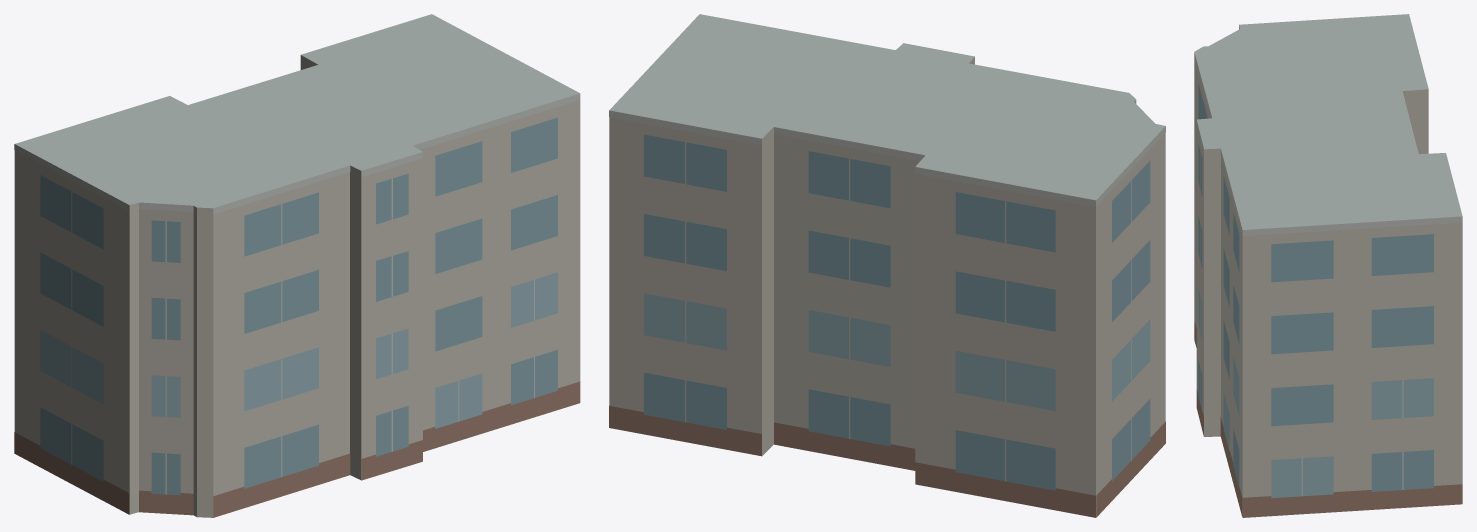
The model's file is survey-upis-32983789.glb.
The picture shows the model from 3 angles, left to right: view 1: azimuth 30°, elevation 25°; view 2: azimuth 150°, elevation 25°; view 3: azimuth 270°, elevation 25°; orthographic projection. The views are drawn at different scales.
Parts seen in each view (by area): view 1: survey-upis-32983789.tmp; view 2: survey-upis-32983789.tmp; view 3: survey-upis-32983789.tmp.
Part boxes in pixels (x1,y1,x2,y2): survey-upis-32983789.tmp: (14, 14, 580, 517); survey-upis-32983789.tmp: (609, 14, 1165, 517); survey-upis-32983789.tmp: (1194, 14, 1462, 517).
Size of the model in its own units: 18.84 by 11.7 by 9.9.
